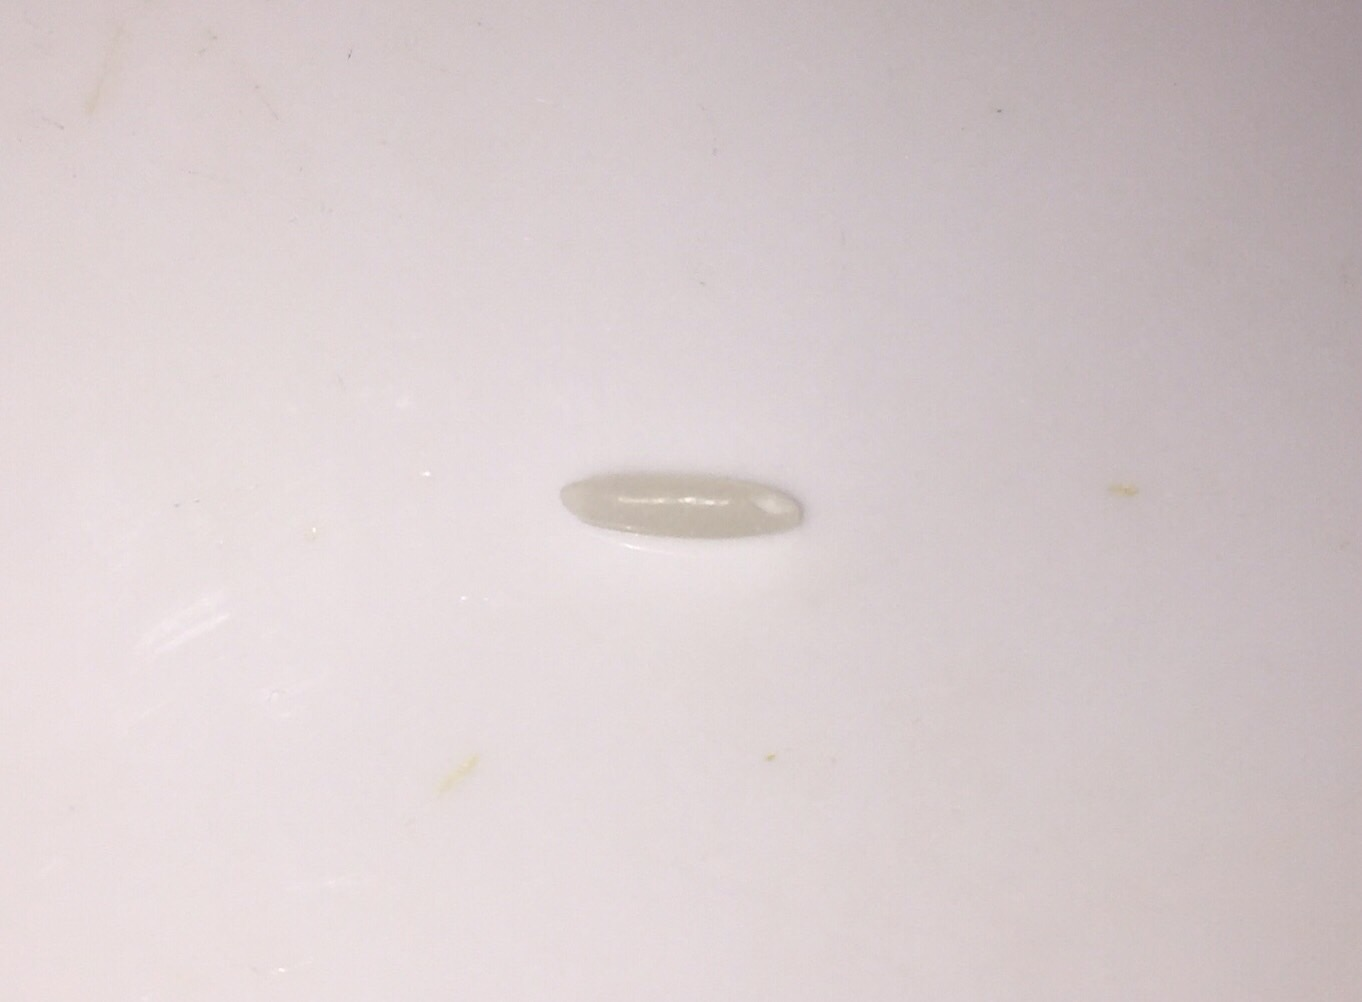Gao Ngoc Troi: (549, 448, 820, 561)
